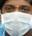with_mask: (1, 1, 32, 36)
